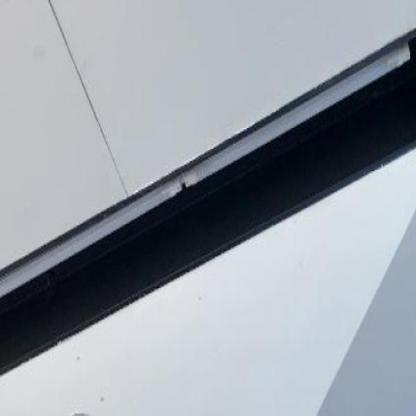light_off: (0, 19, 415, 397)
